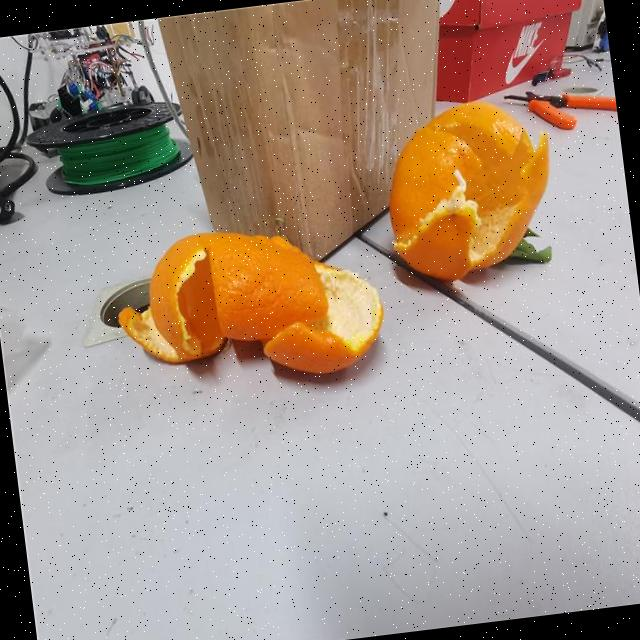orange-peel: (107, 209, 389, 399), (375, 90, 563, 286)
